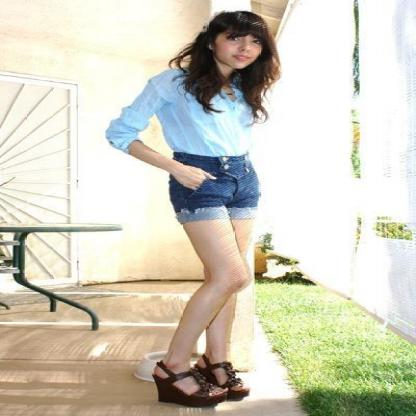shirt: (105, 68, 268, 156)
shoe: (153, 358, 248, 408)
shorts: (162, 151, 259, 384)
